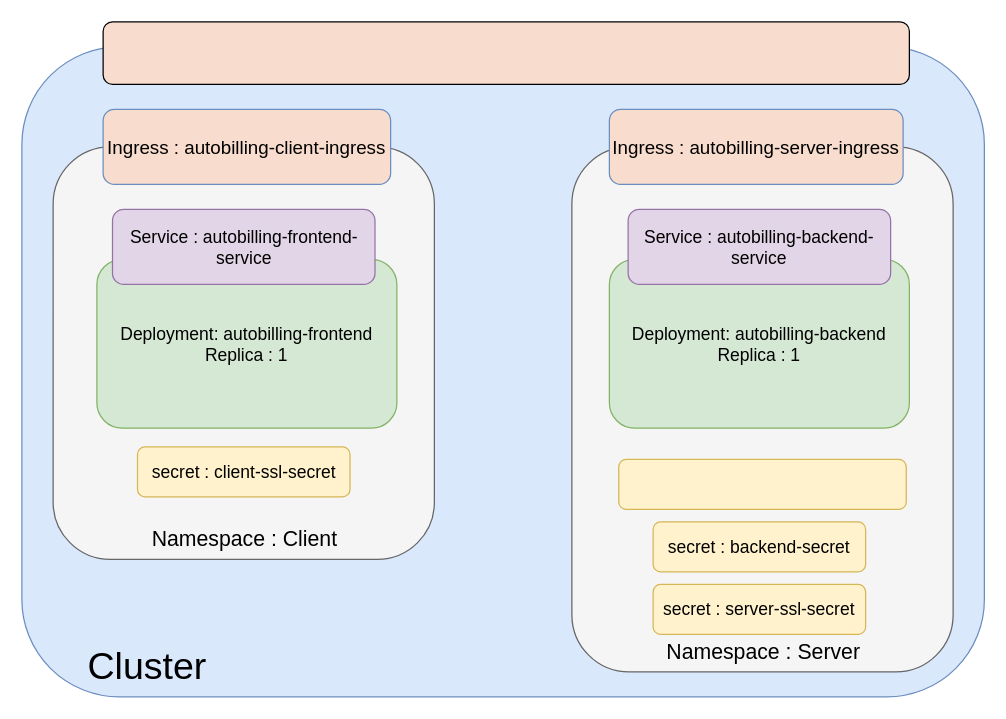
Some shapes in this 1006 by 719 pixel diagram are drawn without their labels. Each missing label, with the box of its shape:
configMap : backend-configmap: (618, 458, 906, 509)
Ingress-Nginx Controller: (102, 21, 909, 84)
